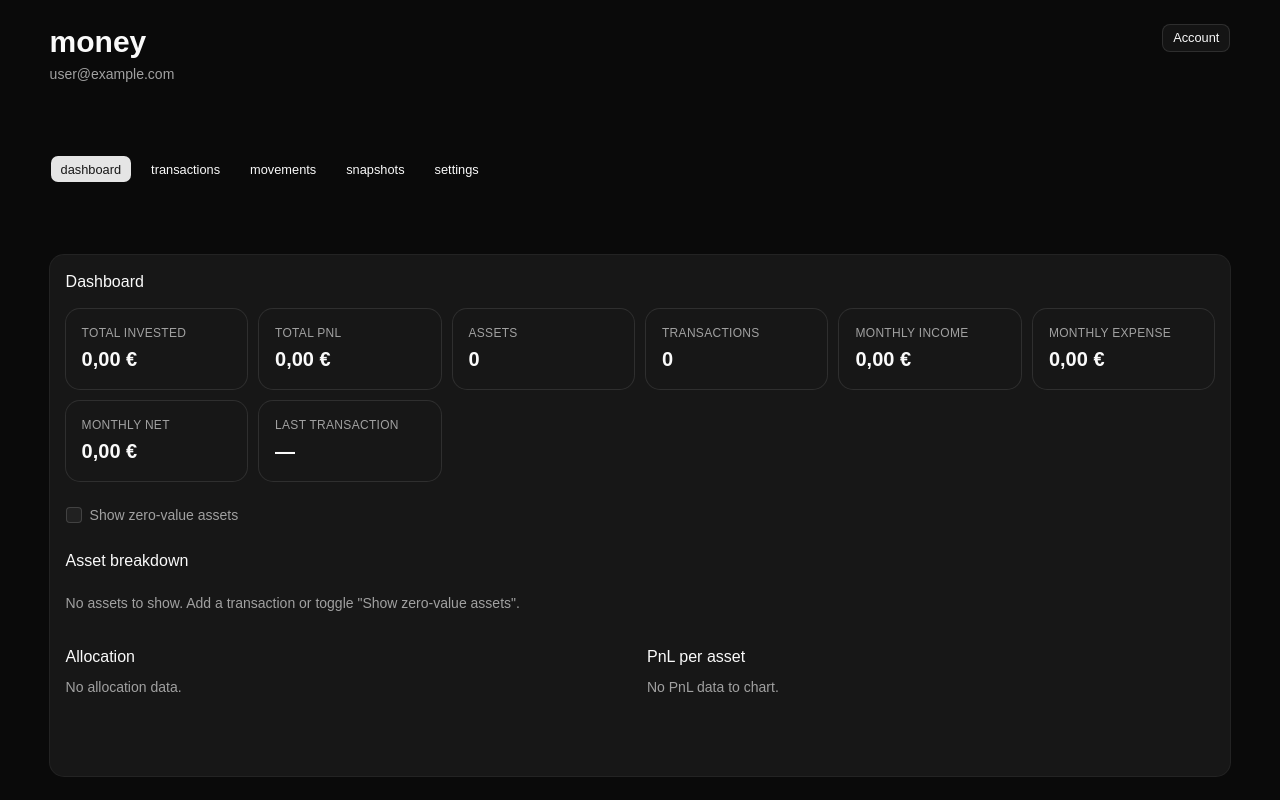
Transactions form dynamic fields (issue #51) › tipo is a select with known options
Expected: the heading "Dashboard" is shown, [66, 273, 144, 290]
Click the link "transactions". click: {"x": 186, "y": 169}
box: [151, 162, 220, 177]
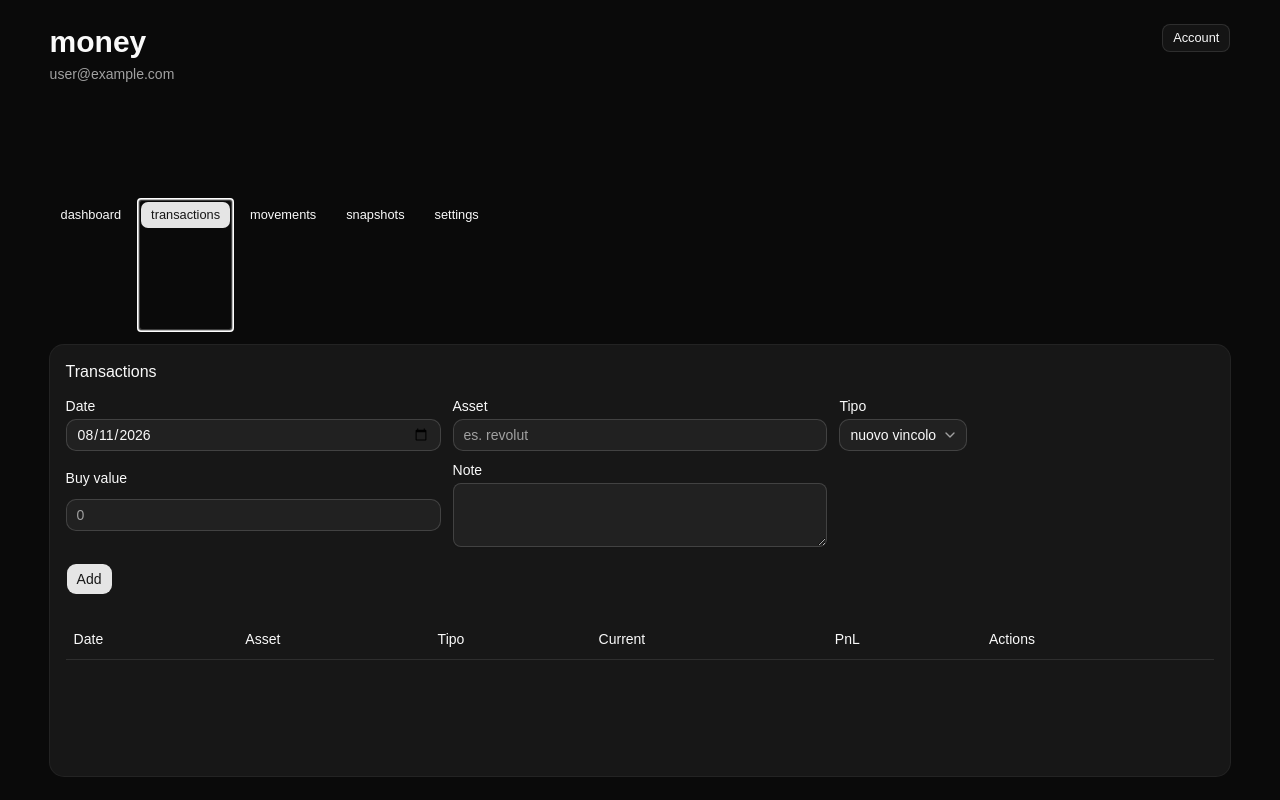
Click the dropdown named "Tipo". click: {"x": 903, "y": 435}
box: [840, 419, 967, 451]
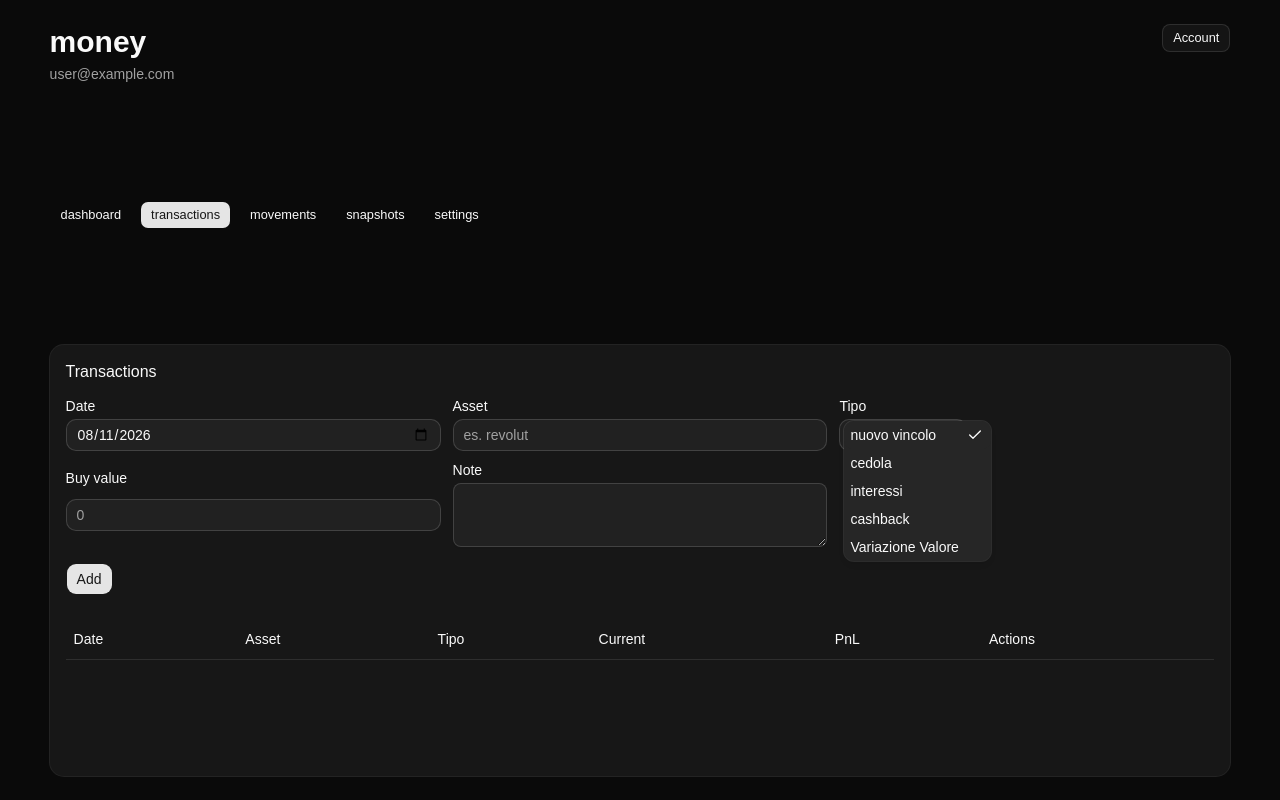
Now the options read "nuovo vincolo", "cedola", "interessi", "cashback", "Variazione Valore", in this order, box [844, 421, 991, 449]; [850, 455, 892, 471]; [850, 483, 903, 499]; [850, 511, 910, 527]; [850, 539, 959, 555]
